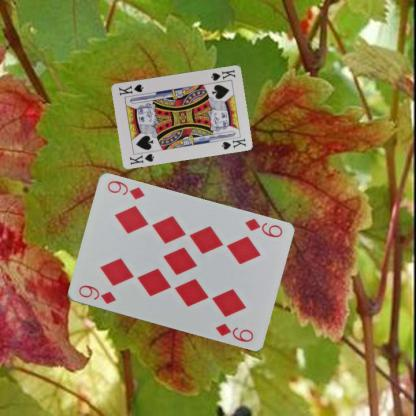9d: (242, 216, 284, 239), (76, 283, 116, 306)
Ks: (208, 66, 237, 82), (127, 151, 156, 166)
